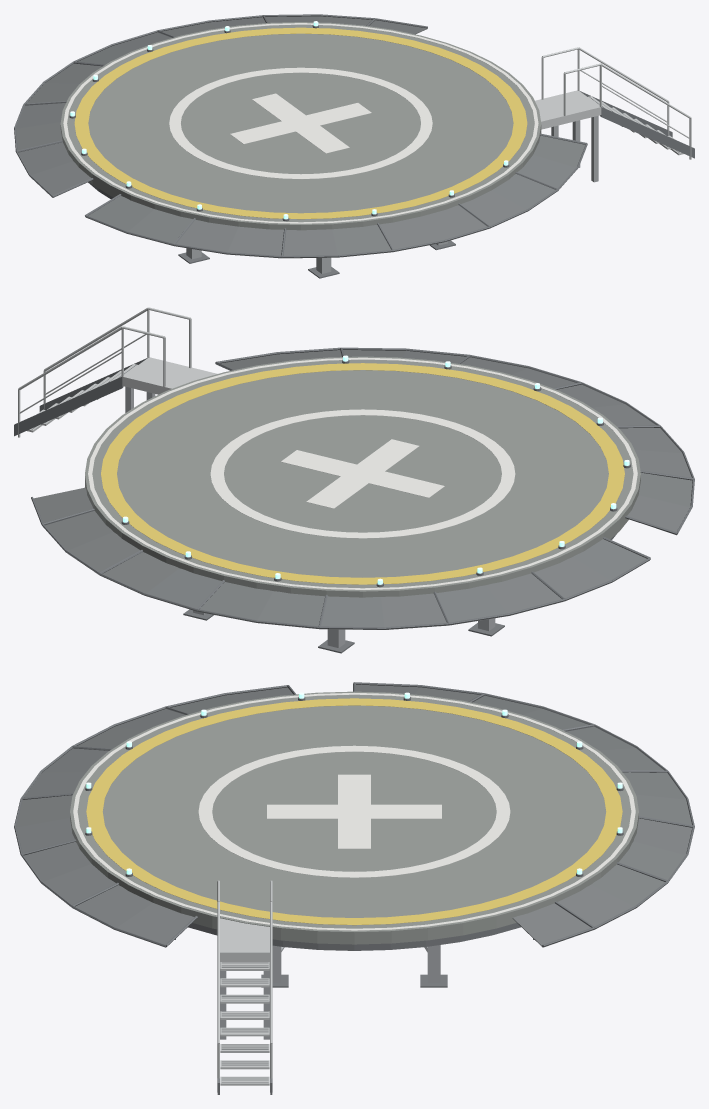
The model's file is helipad.glb.
3 renders of one model, top to bottom at view 1: azimuth 30°, elevation 25°; view 2: azimuth 150°, elevation 25°; view 3: azimuth 270°, elevation 25°, orthographic. The views are drawn at different scales.
Visible parts, largest first — view 1: helipad_hp_g, helipad_net, helipad_paint_w, helipad_pad_y, helipad_steel_d, helipad_galv, helipad_steel; view 2: helipad_hp_g, helipad_net, helipad_paint_w, helipad_pad_y, helipad_steel_d, helipad_galv, helipad_steel; view 3: helipad_hp_g, helipad_net, helipad_paint_w, helipad_pad_y, helipad_steel_d, helipad_galv, helipad_steel.
Part boxes in pixels (x1,y1,x2,y2): helipad_hp_g: (60, 22, 541, 230); helipad_net: (16, 16, 585, 258); helipad_paint_w: (63, 23, 538, 223); helipad_pad_y: (74, 27, 527, 219); helipad_steel_d: (14, 14, 694, 278); helipad_galv: (535, 47, 691, 159); helipad_steel: (186, 115, 598, 273); helipad_hp_g: (85, 356, 640, 597); helipad_net: (33, 350, 692, 629); helipad_paint_w: (88, 357, 637, 590); helipad_pad_y: (101, 363, 624, 584); helipad_steel_d: (14, 347, 694, 653); helipad_galv: (18, 307, 217, 437); helipad_steel: (125, 386, 495, 647); helipad_hp_g: (70, 691, 638, 944); helipad_net: (16, 684, 692, 947); helipad_paint_w: (73, 693, 635, 930); helipad_pad_y: (86, 698, 622, 925); helipad_steel_d: (14, 682, 694, 1094); helipad_galv: (217, 880, 272, 1092); helipad_steel: (220, 945, 440, 1039).
Size of the model in its own units: 14.62 by 2.81 by 12.44.
